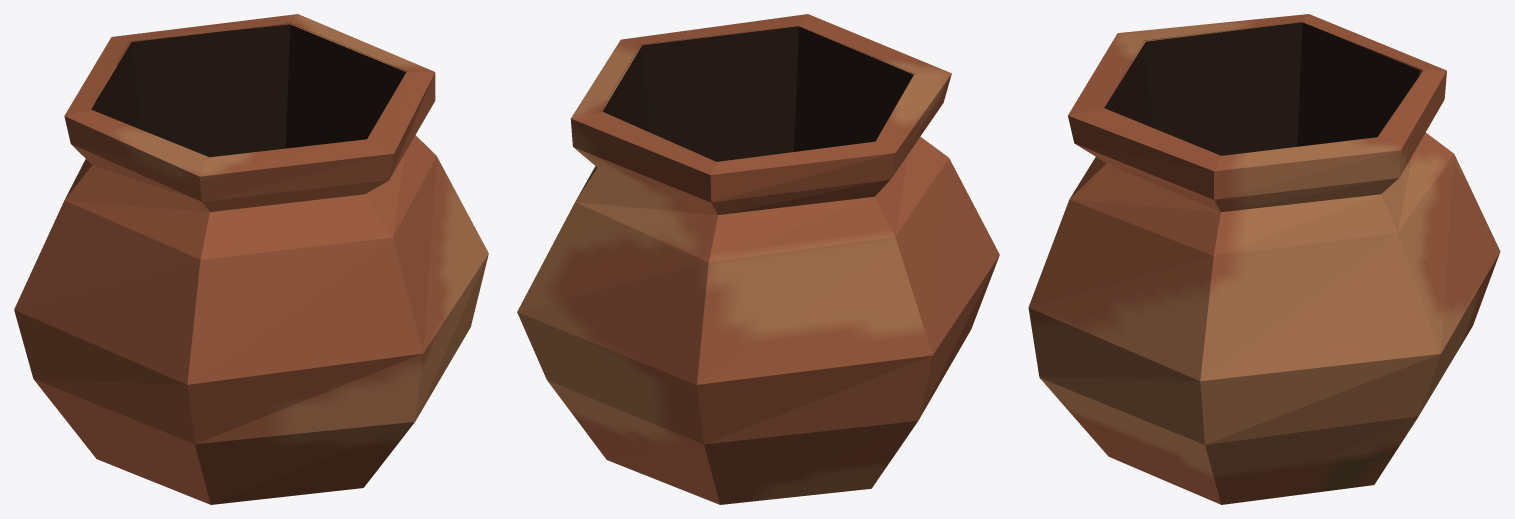
Rendered from SM_PR09_PotLow.fbx.
3 views of the same model, side by side, from view 1: azimuth 30°, elevation 25°; view 2: azimuth 150°, elevation 25°; view 3: azimuth 270°, elevation 25° (orthographic).
Visible parts, largest first — view 1: PR09_Pot; view 2: PR09_Pot; view 3: PR09_Pot.
Part boxes in pixels (box(x1,y1,x2,y2)): PR09_Pot: box(14, 14, 488, 504); PR09_Pot: box(517, 14, 999, 504); PR09_Pot: box(1028, 14, 1500, 504).
Bounding box in the file's own units: 0.2721 × 0.22 × 0.2696.
